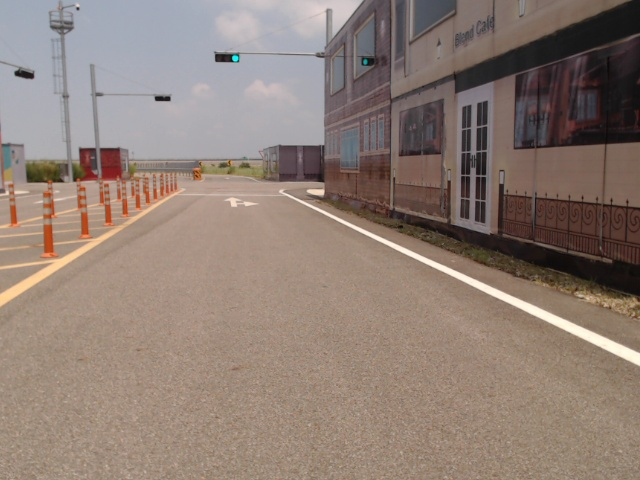green_3: (215, 53, 240, 63)
